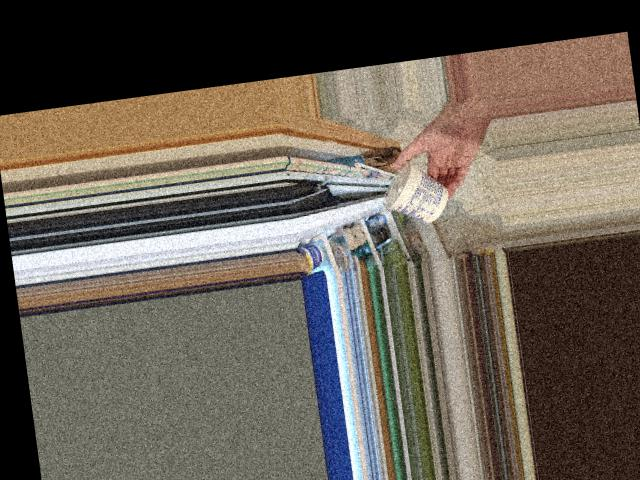cotage: (375, 156, 453, 221)
